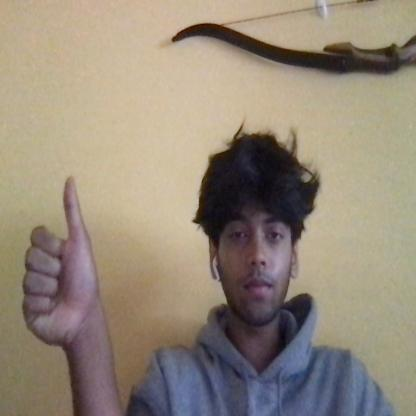Thumbs-Up: (11, 166, 109, 364)
